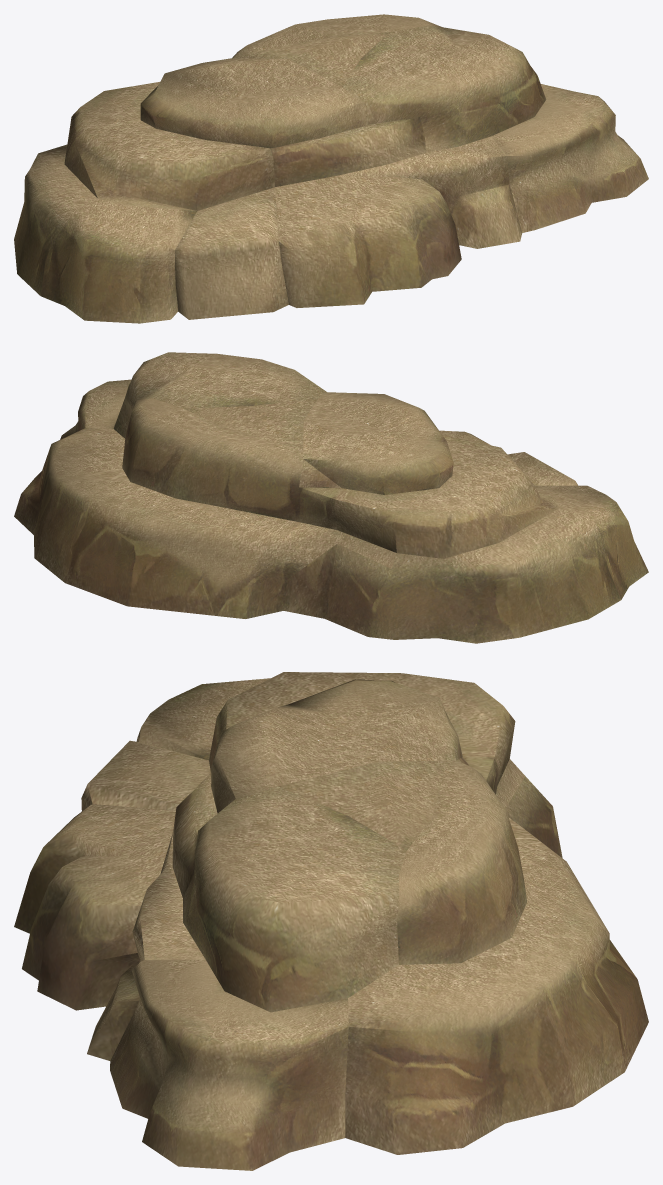
The model's file is stone_13.FBX.
The picture shows the model from 3 angles, top to bottom: view 1: azimuth 30°, elevation 25°; view 2: azimuth 150°, elevation 25°; view 3: azimuth 270°, elevation 25°; orthographic projection. The views are drawn at different scales.
Visible parts, largest first — view 1: stone_13; view 2: stone_13; view 3: stone_13.
Part boxes in pixels (left/top/right/bottom): stone_13: left=14, top=14, right=648, bottom=323; stone_13: left=14, top=352, right=648, bottom=643; stone_13: left=14, top=672, right=648, bottom=1170.
Bounding box in the file's own units: 19.85 × 4.63 × 13.05.
